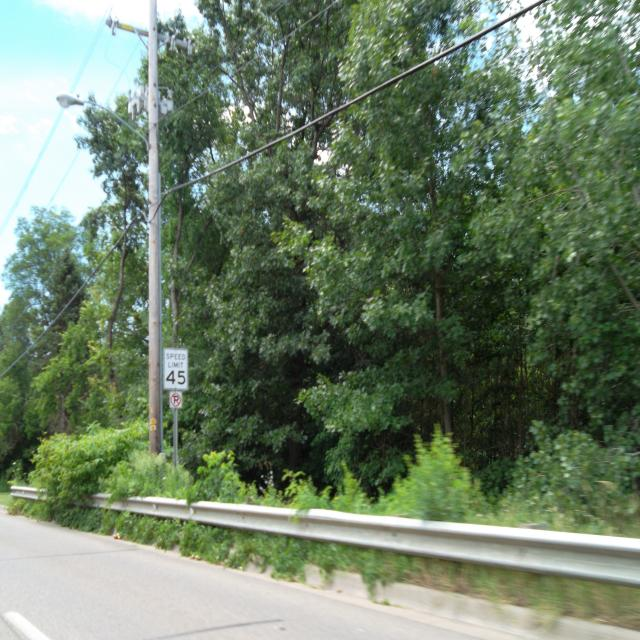regulatory: (162, 342, 190, 395)
